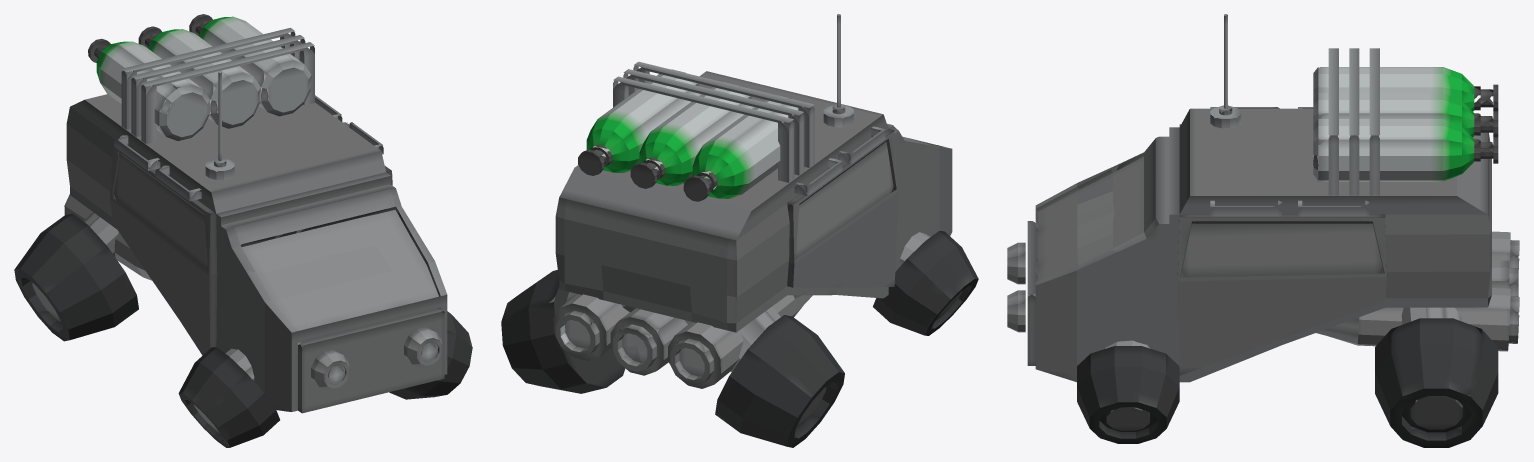
Rendered from car.fbx.
3 renders of one model, left to right at view 1: azimuth 30°, elevation 25°; view 2: azimuth 150°, elevation 25°; view 3: azimuth 270°, elevation 25°, orthographic. The views are drawn at different scales.
Visible parts, largest first — view 1: merged_car; view 2: merged_car; view 3: merged_car.
Boxes of the visible parts, x1,y1,x2,y2 form: merged_car: [14, 14, 472, 447]; merged_car: [501, 14, 978, 447]; merged_car: [1007, 14, 1519, 447].
Bounding box in the file's own units: 7.09 × 7.24 × 9.74.
1 material, 1 textured.
